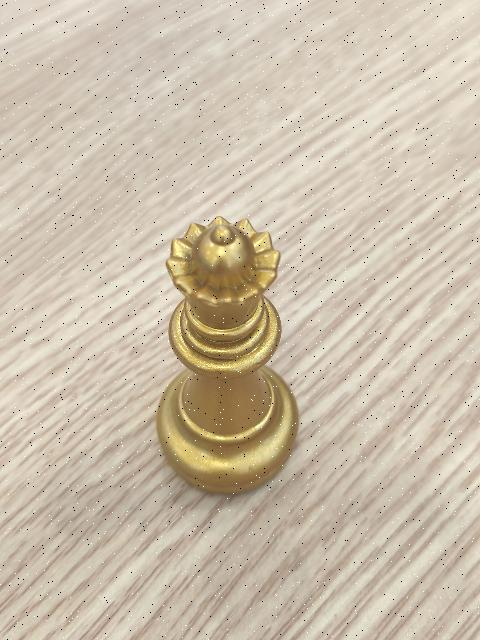black_queen: (161, 216, 297, 493)
